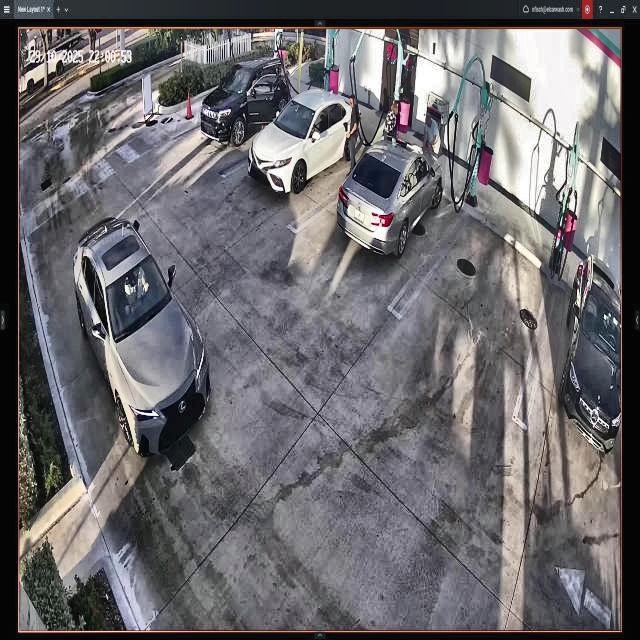Car: (72, 213, 210, 455), (337, 138, 442, 254), (250, 86, 357, 190)
